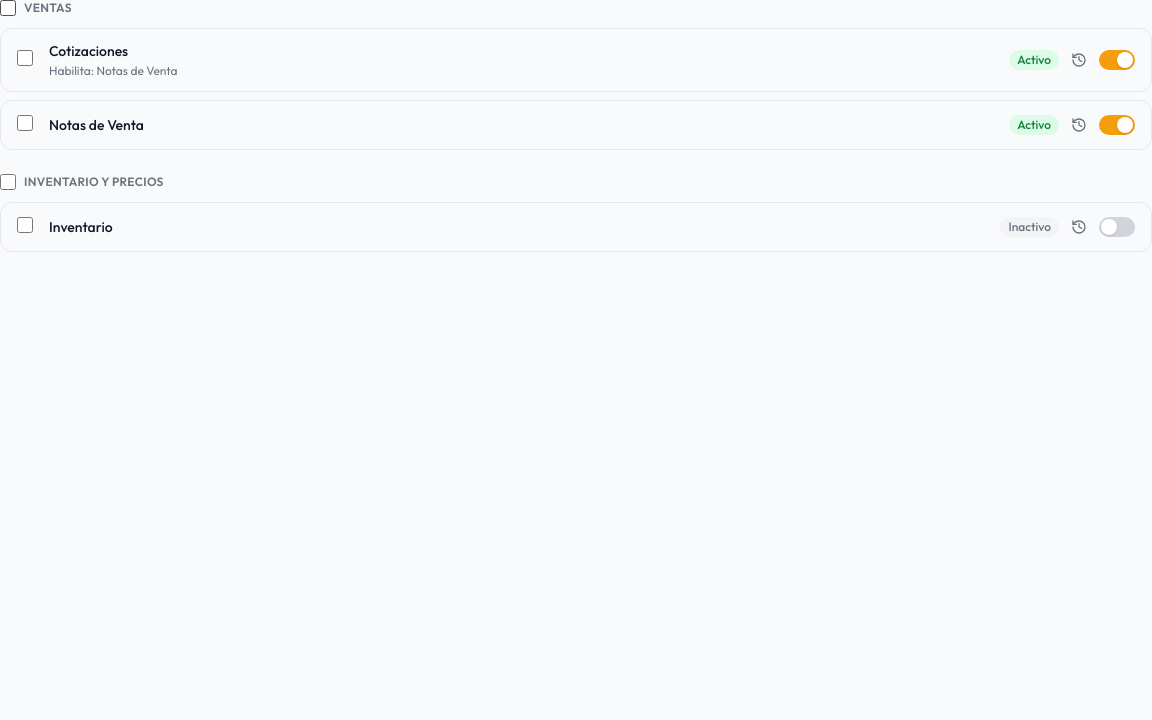
Test case: ModulesTab › turning off parent with active dependents opens cascade modal with correct list
The width and height of the screenshot is (1152, 720).
Expected: the text "Cotizaciones" is shown, [49, 42, 128, 60]
Click the switch named "Cotizaciones": (1117, 60) [1099, 50, 1135, 70]
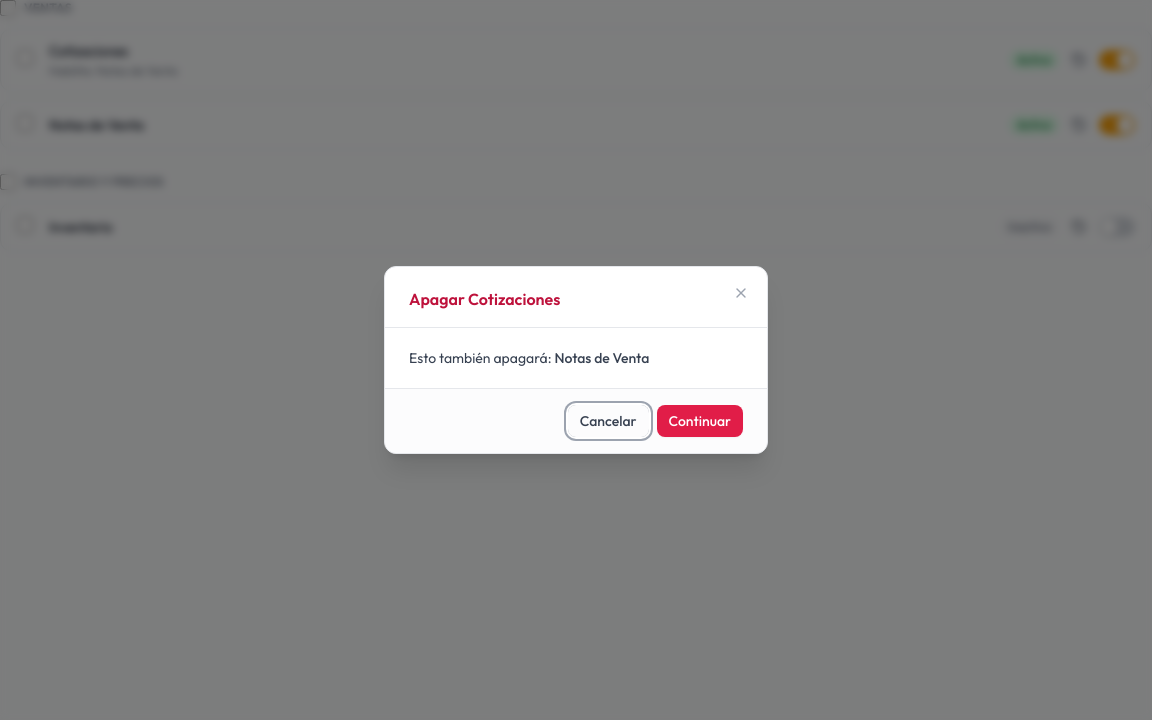
Expected: the heading "Apagar Cotizaciones" is shown, [409, 289, 560, 309]
Expected: the text "Esto también apagará: Notas de Venta" is shown, [409, 349, 649, 367]
Expected: the text "Notas de Venta" is shown, [554, 349, 649, 367]
